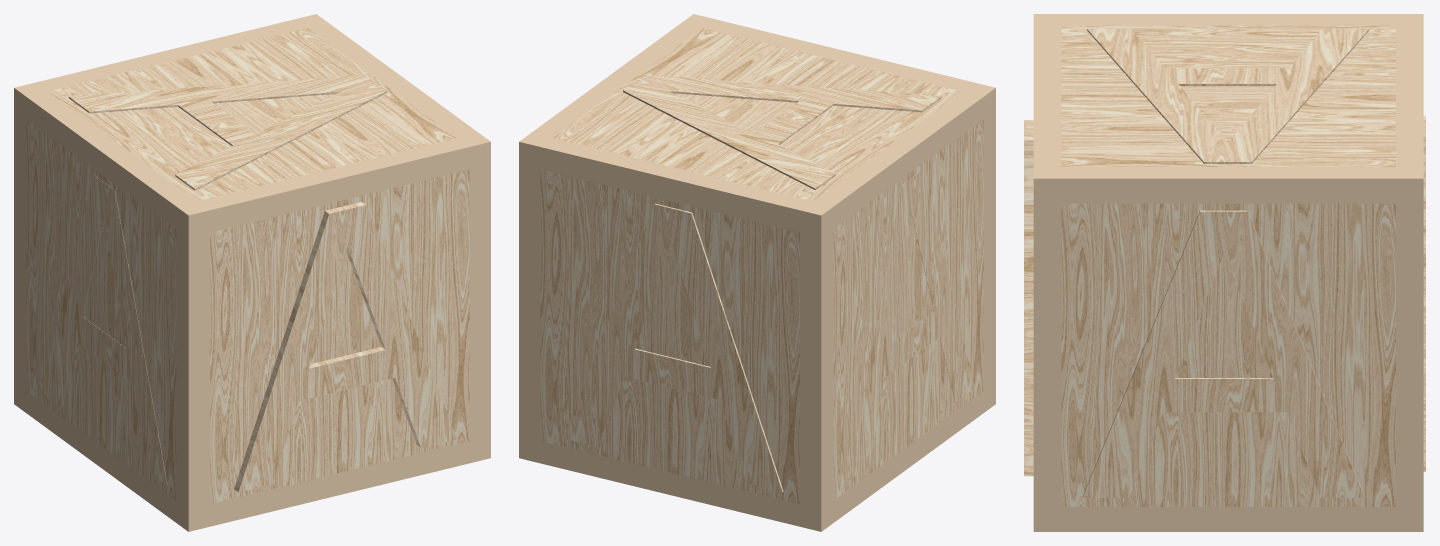
Rendered from block-a.fbx.
The picture shows the model from 3 angles, left to right: view 1: azimuth 30°, elevation 25°; view 2: azimuth 150°, elevation 25°; view 3: azimuth 270°, elevation 25°; orthographic projection. The views are drawn at different scales.
Visible parts, largest first — view 1: Box, FRONT, LEFT, TOP; view 2: Box, BACK, LEFT, TOP; view 3: Box, RIGHT, TOP, FRONT, BACK.
Boxes of the visible parts, x1,y1,x2,y2 form: Box: (14,14,490,531); FRONT: (234,202,457,492); LEFT: (41,174,167,484); TOP: (68,75,387,190); Box: (519,14,995,531); BACK: (563,203,783,491); LEFT: (848,170,974,480); TOP: (623,74,941,190); Box: (1033,14,1423,531); RIGHT: (1082,210,1364,497); TOP: (1087,28,1369,163); FRONT: (1024,120,1033,476); BACK: (1423,116,1425,471).
Size of the model in its own units: 1.01 by 1.01 by 1.03.
Materials: 2 (2 with a texture image).
